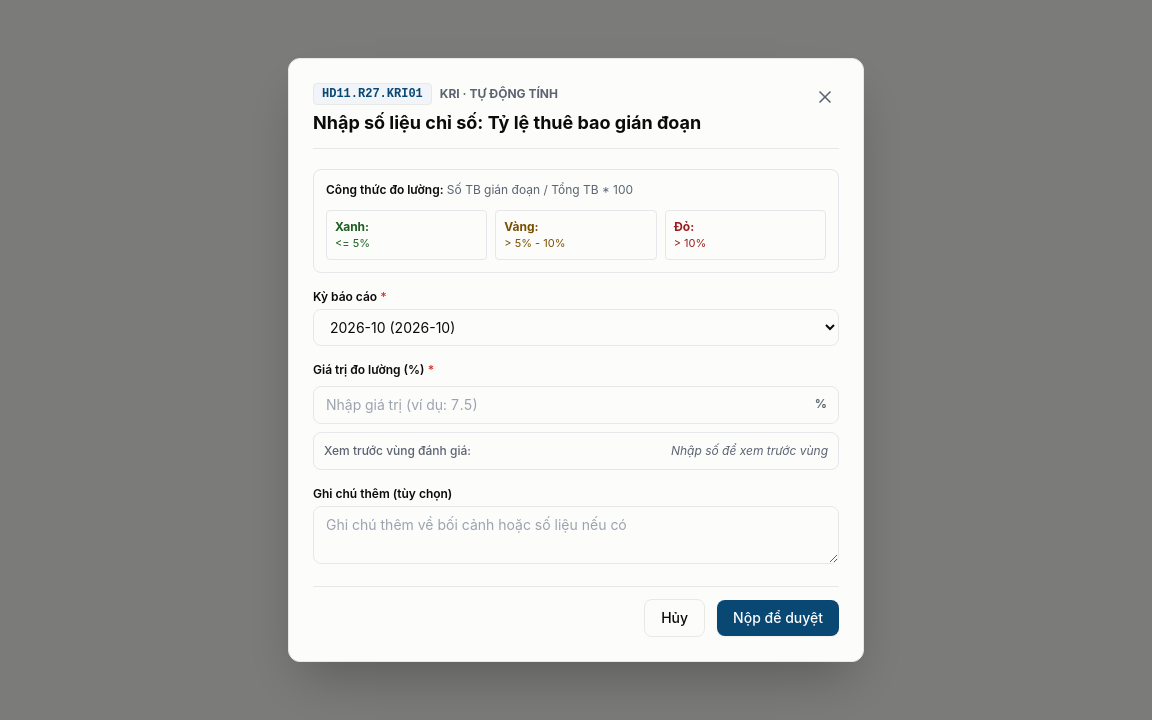
it: ReadingForm component › displays error banner when API returns PERIOD_CLOSED
Type "4.5" into the number field labelled "Giá trị đo lường (%) *". click: (576, 405)
box: [313, 386, 839, 424]
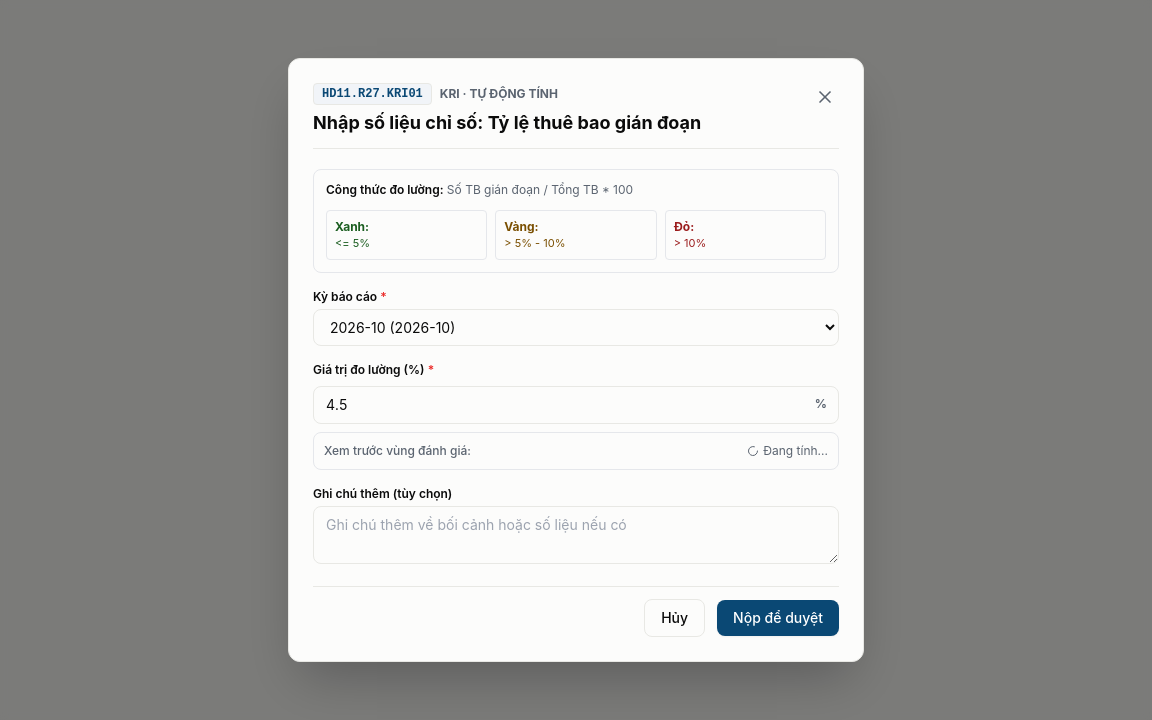
Click the button "Nộp để duyệt". click: (778, 618)
box: [717, 600, 839, 636]
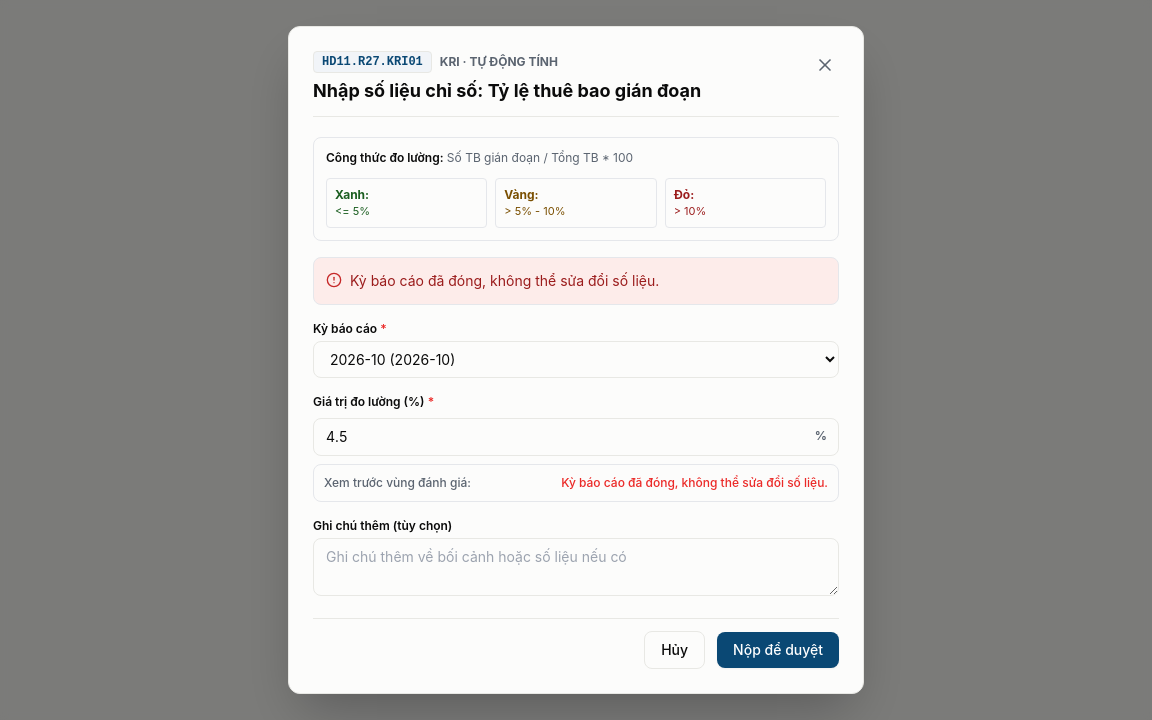
Check: the 1st text "Kỳ báo cáo đã đóng, không thể sửa đổi số liệu." is shown, box [350, 270, 659, 292]
